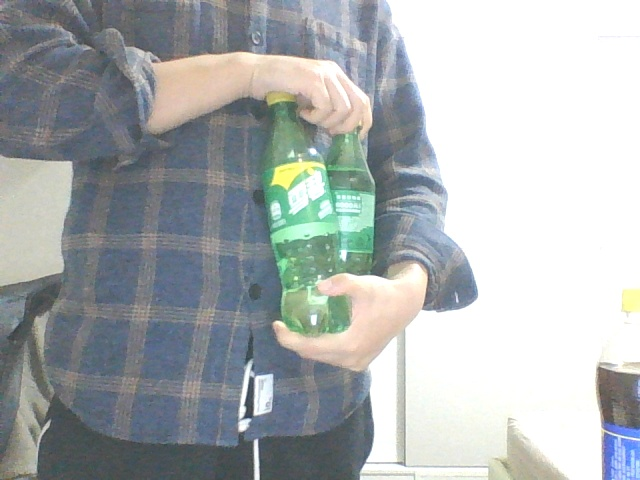Cola: (597, 290, 640, 477)
Sprite: (262, 92, 346, 332), (330, 125, 378, 278)
